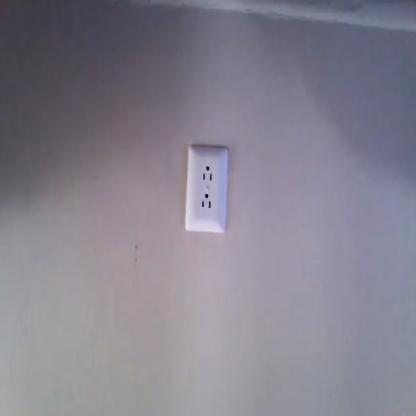OUTLET: (184, 144, 230, 234)
